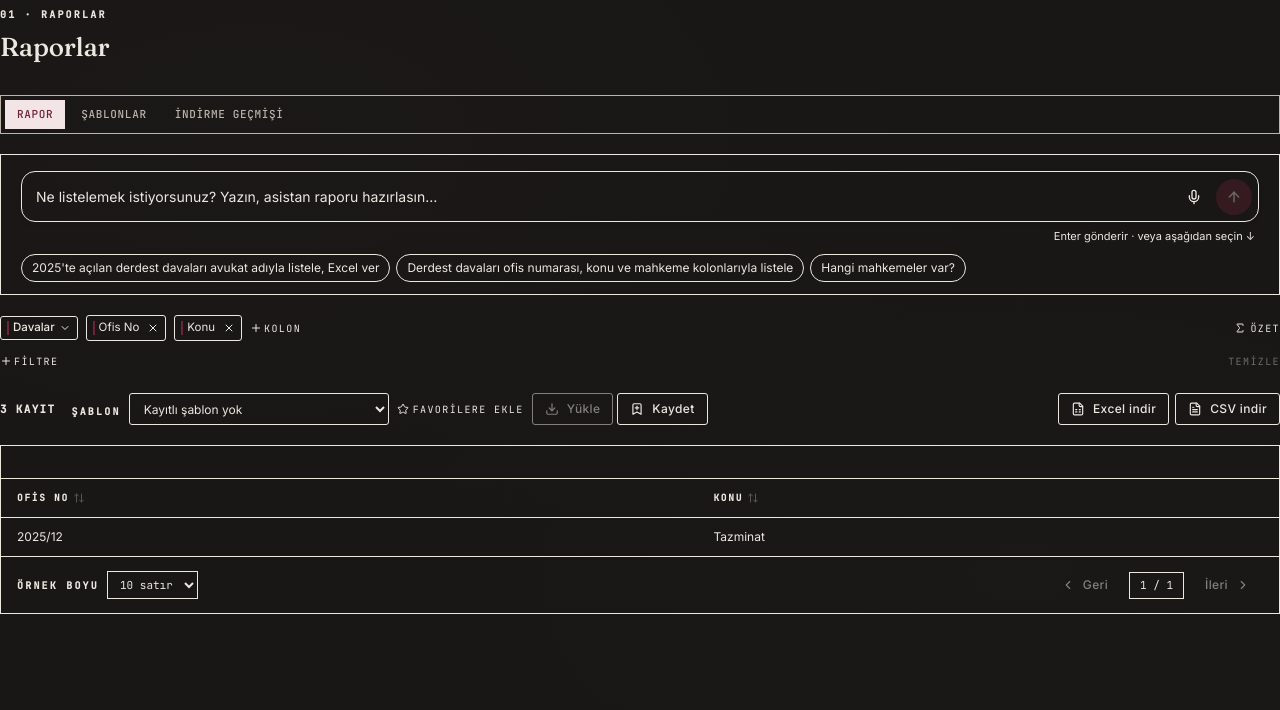
ReportsPage asistan satırı (G135/G138/G143/G167) › örnek çipleri kaynağa göre (3); ilk tık girdiye yazar, aynı çipe ikinci tık gönderir; kart değişince çipler değişir
This screenshot has width=1280, height=710.
Click the button with test id "ornek-istem" at (600, 268), box [396,254,804,282]
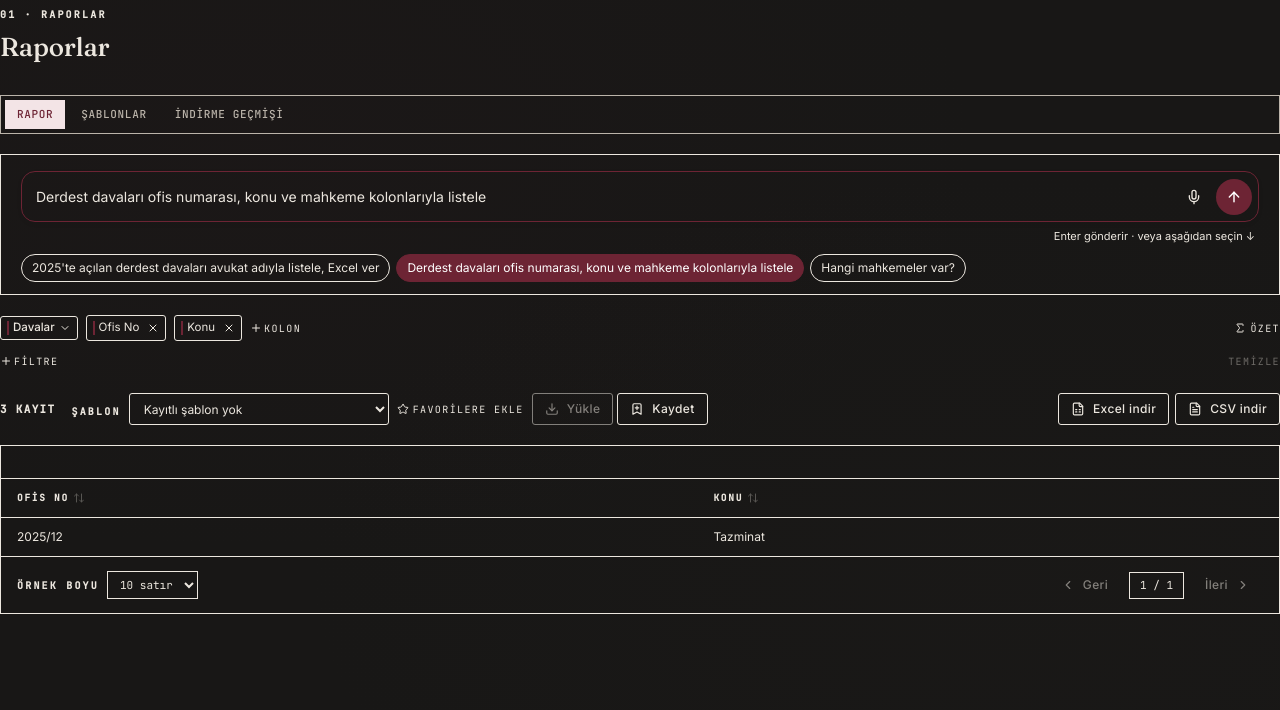
Click the 2nd button with test id "ornek-istem" at (600, 268), box [396,254,804,282]
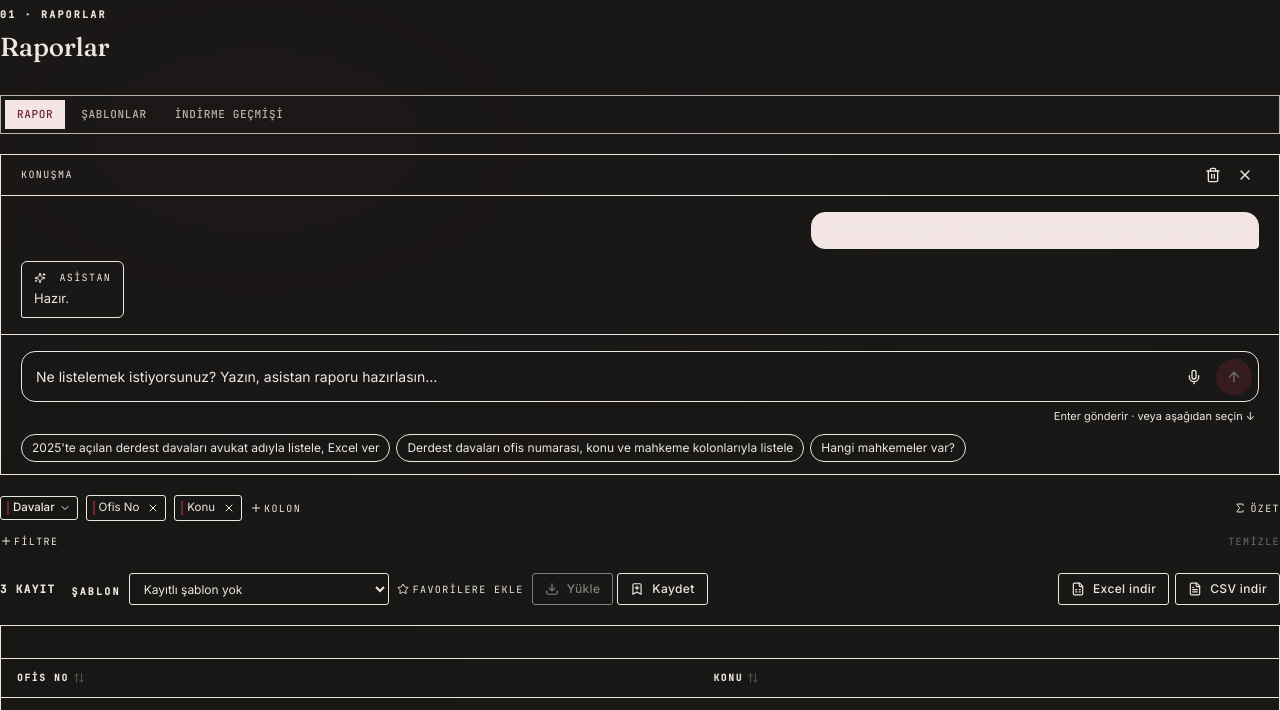
Press the mouse on the button with test id "serit-kaynak" at (39, 508), box [0,496,78,520]
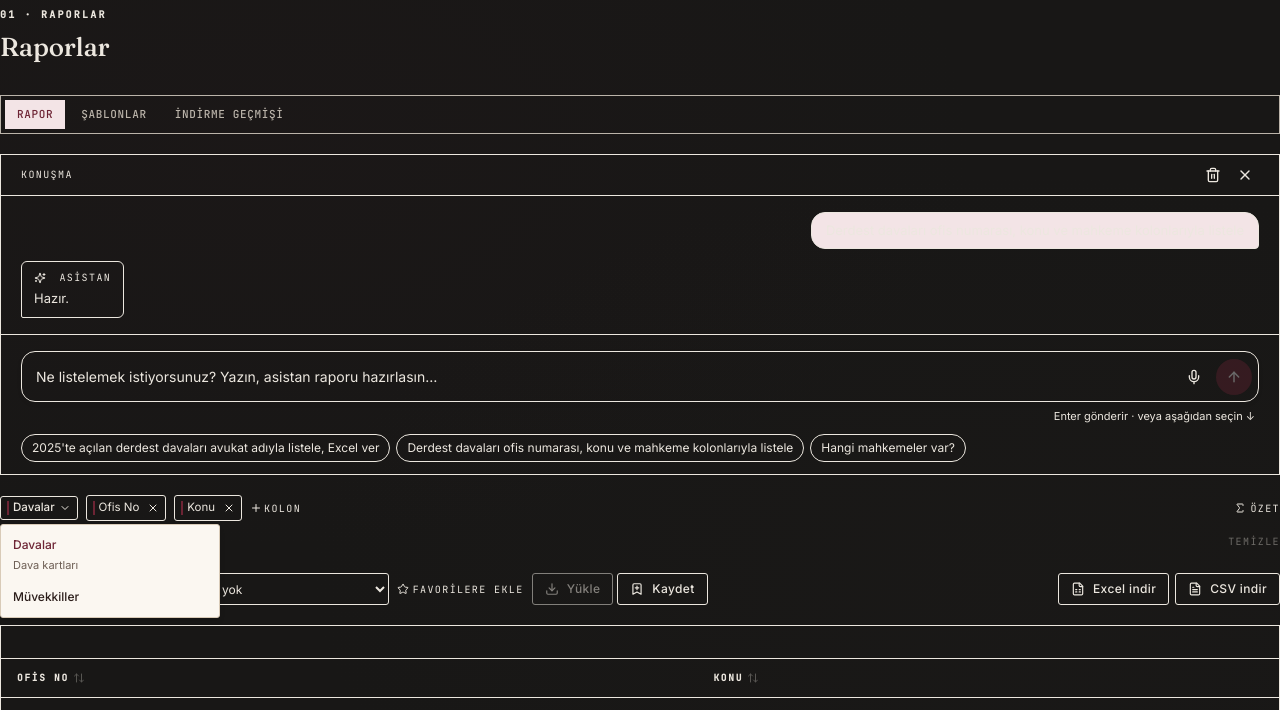
Click the menu item "Müvekkiller" at (46, 596), box [13,589,79,604]
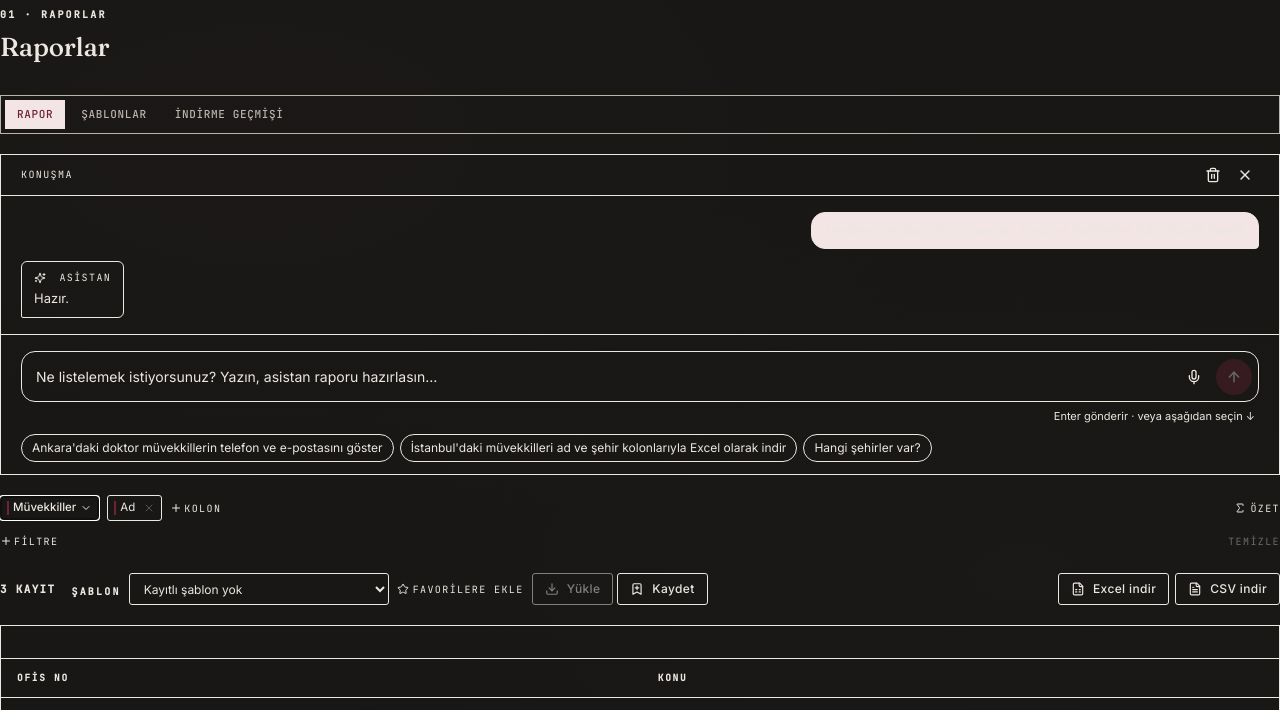
Expected: the button with test id "ornek-istem" shows "Ankara", [21,434,394,462]
